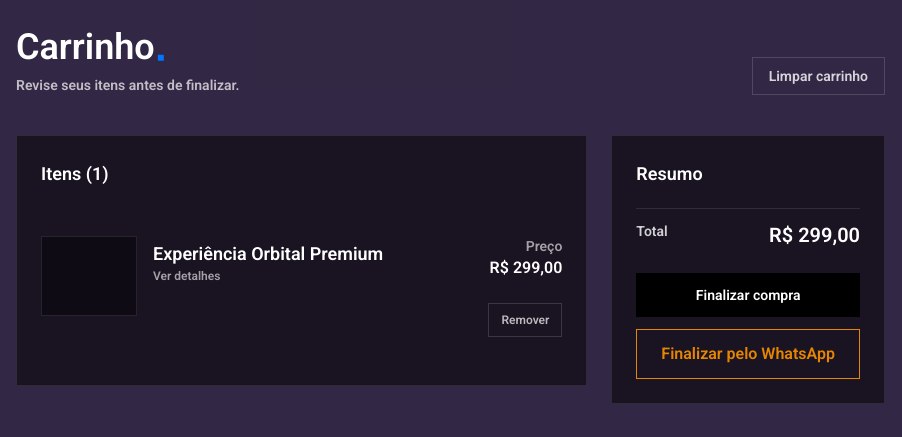
CartPage (integration) › checkout logado: se Stripe falhar, mostra erro (cobre branch do payError)
Click the button "Finalizar compra". click: (748, 294)
box: [636,272,860,316]
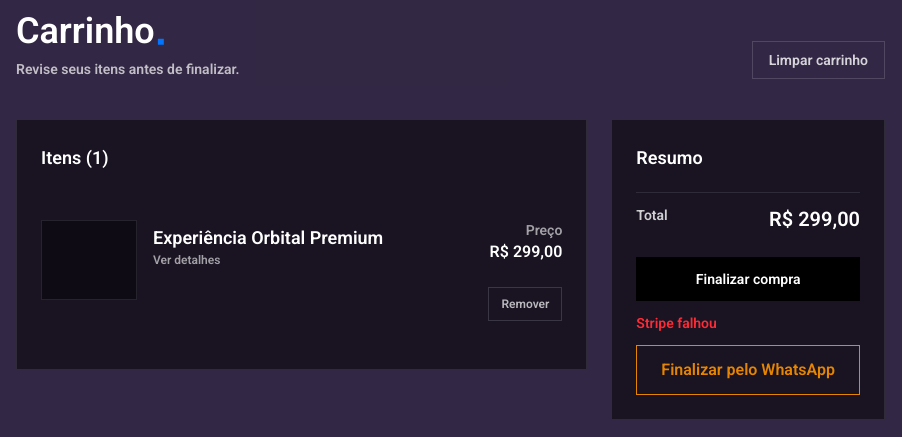
Result: the text "Stripe falhou" is shown at [636,314,717,330]
